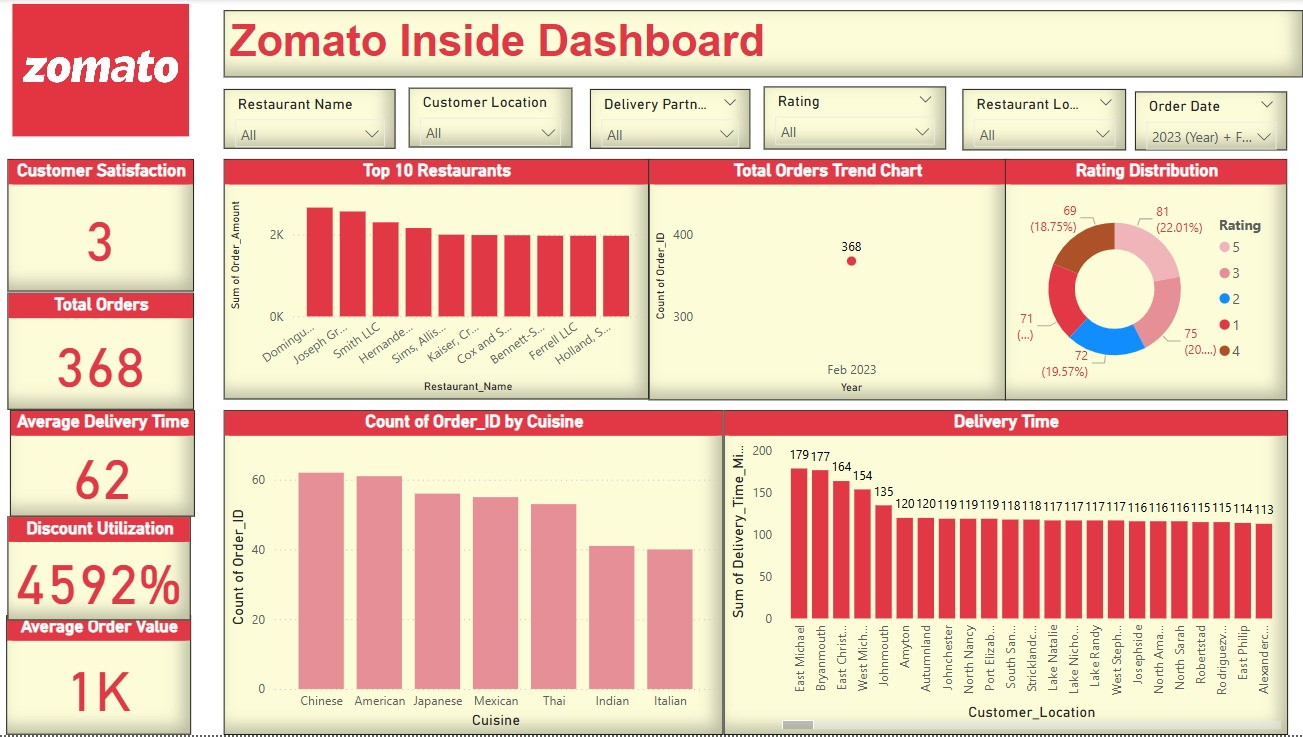

The page's visual inventory and layout, read from the dashboard file:
{"tool":"powerbi","page":{"name":"Zomato Inside Dashboard1","canvas":[1280,720],"ordinal":1},"visuals":[{"type":"card","title":"Total Orders","fields":{"Values":["Count(Sheet1.Order_ID)"]},"box":[12.8,287.9,182.4,114],"z":0},{"type":"card","title":"Average Delivery Time","fields":{"Values":["Avg(Sheet1.Delivery_Time_Minutes)"]},"box":[14.3,402,181,104.1],"z":1000},{"type":"card","title":"Average Order Value","fields":{"Values":["Avg(Sheet1.Order_Amount)"]},"box":[11.4,602.9,181,116.9],"z":2000},{"type":"card","title":"Customer Satisfaction","fields":{"Values":["Avg(Sheet1.Rating)"]},"box":[12.8,156.8,182.4,129.7],"z":3000},{"type":"card","title":"Discount Utilization","fields":{"Values":["Sheet1.Discount Utilization (%)"]},"box":[12.8,506,179.6,101.2],"z":4000},{"type":"lineChart","title":"Total Orders Trend Chart","fields":{"Category":["Sheet1.Order_Date.Variation.Date Hierarchy.Year"],"Y":["CountNonNull(Sheet1.Order_ID)"]},"box":[639.5,156.5,349.7,236],"z":5000},{"type":"columnChart","title":"Delivery Time","fields":{"Category":["Sheet1.Customer_Location"],"Y":["Sum(Sheet1.Delivery_Time_Minutes)"]},"box":[712.7,402,551.6,317.9],"z":6000},{"type":"columnChart","title":"Top 10 Restaurants","fields":{"Category":["Sheet1.Restaurant_Name"],"Y":["Sum(Sheet1.Order_Amount)"]},"box":[223.8,156.8,416.2,235.2],"z":7000},{"type":"donutChart","title":"Rating Distribution","fields":{"Y":["CountNonNull(Sheet1.Order_ID)"],"Category":["Sheet1.Rating"]},"box":[988,156.5,276.4,236],"z":8000},{"type":"columnChart","fields":{"Category":["Sheet1.Cuisine"],"Y":["CountNonNull(Sheet1.Order_ID)"]},"box":[223.8,402,488.9,317.9],"z":9000},{"type":"textbox","box":[223.8,11.4,1056.2,65.6],"z":10000},{"type":"image","box":[12.8,0,182.4,139.7],"z":11000},{"type":"slicer","fields":{"Values":["Sheet1.Restaurant_Name"]},"box":[223.8,88.4,168.2,58.4],"z":12000},{"type":"slicer","fields":{"Values":["Sheet1.Customer_Location"]},"box":[404.8,86.9,159.6,58.4],"z":13000},{"type":"slicer","fields":{"Values":["Sheet1.Delivery_Partner"]},"box":[581.6,88.4,156.8,58.4],"z":14000},{"type":"slicer","fields":{"Values":["Sheet1.Rating"]},"box":[752.6,85.5,178.2,61.3],"z":15000},{"type":"slicer","fields":{"Values":["Sheet1.Restaurant_Location"]},"box":[946.5,88,160.2,59.9],"z":16000},{"type":"slicer","fields":{"Values":["Sheet1.Order_Date.Variation.Date Hierarchy.Year","Sheet1.Order_Date.Variation.Date Hierarchy.Month","Sheet1.Order_Date.Variation.Date Hierarchy.Day"]},"box":[1115.2,90.5,149.2,57.5],"z":17000}]}

Visuals, with their boxes in screenshot pixels (x1, y1, x2, y2), scaled from the page's 1280x720 canvas onto the 1303x737 screenshot:
"Total Orders" card: <bbox>13, 295, 199, 411</bbox>
"Average Delivery Time" card: <bbox>15, 411, 199, 518</bbox>
"Average Order Value" card: <bbox>12, 617, 196, 736</bbox>
"Customer Satisfaction" card: <bbox>13, 161, 199, 293</bbox>
"Discount Utilization" card: <bbox>13, 518, 196, 622</bbox>
"Total Orders Trend Chart" lineChart: <bbox>651, 160, 1007, 402</bbox>
"Delivery Time" columnChart: <bbox>726, 411, 1287, 736</bbox>
"Top 10 Restaurants" columnChart: <bbox>228, 161, 652, 401</bbox>
"Rating Distribution" donutChart: <bbox>1006, 160, 1287, 402</bbox>
columnChart - Sheet1.Cuisine x CountNonNull(Sheet1.Order_ID): <bbox>228, 411, 726, 736</bbox>
textbox: <bbox>228, 12, 1302, 79</bbox>
image: <bbox>13, 0, 199, 143</bbox>
slicer - Sheet1.Restaurant_Name: <bbox>228, 90, 399, 150</bbox>
slicer - Sheet1.Customer_Location: <bbox>412, 89, 575, 149</bbox>
slicer - Sheet1.Delivery_Partner: <bbox>592, 90, 752, 150</bbox>
slicer - Sheet1.Rating: <bbox>766, 88, 948, 150</bbox>
slicer - Sheet1.Restaurant_Location: <bbox>964, 90, 1127, 151</bbox>
slicer - Sheet1.Order_Date.Variation.Date Hierarchy.Year x Sheet1.Order_Date.Variation.Date Hierarchy.Month: <bbox>1135, 93, 1287, 151</bbox>
